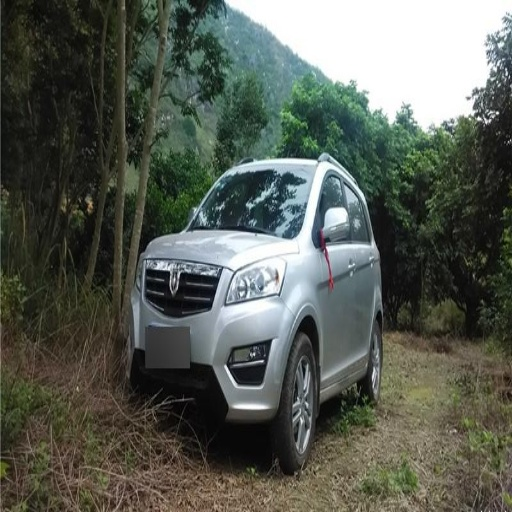front_bumper: (128, 256, 294, 420)
front_glass: (189, 166, 312, 238)
front_left_door: (316, 166, 356, 382)
